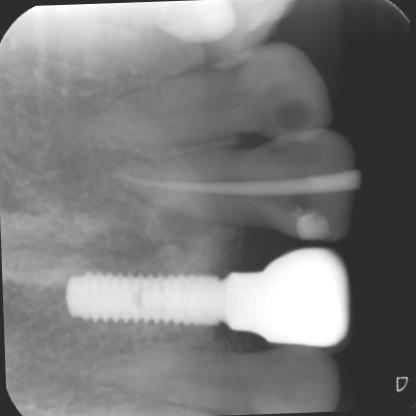ITI: (48, 242, 227, 350)
